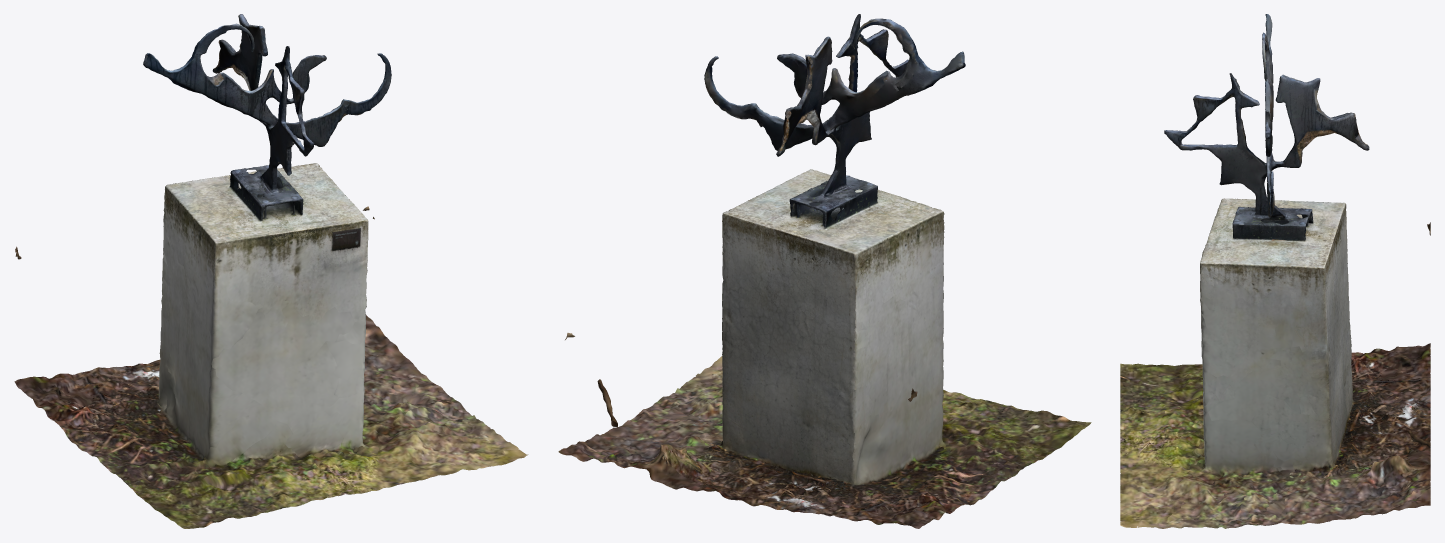
The model's file is boat.obj.
3 renders of one model, left to right at view 1: azimuth 30°, elevation 25°; view 2: azimuth 150°, elevation 25°; view 3: azimuth 270°, elevation 25°, orthographic. The views are drawn at different scales.
Visible parts, largest first — view 1: Object; view 2: Object; view 3: Object.
Part boxes in pixels (x1,y1,x2,y2): Object: (14, 14, 528, 528); Object: (558, 14, 1091, 528); Object: (1120, 14, 1430, 528).
Size of the model in its own units: 1.58 by 1.89 by 1.35.
